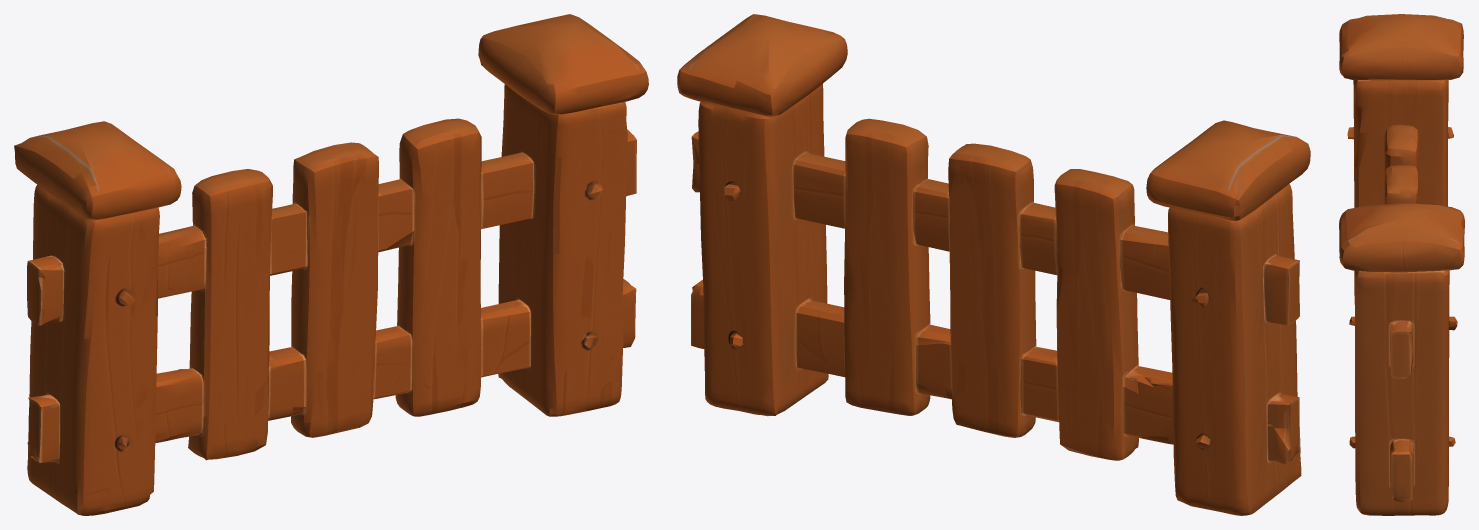
Rendered from fence_low_1.glb.
The picture shows the model from 3 angles, left to right: view 1: azimuth 30°, elevation 25°; view 2: azimuth 150°, elevation 25°; view 3: azimuth 270°, elevation 25°; orthographic projection. The views are drawn at different scales.
Visible parts, largest first — view 1: Mesh0; view 2: Mesh0; view 3: Mesh0.
Part boxes in pixels (left/top/right/bottom): Mesh0: left=14, top=14, right=648, bottom=515; Mesh0: left=677, top=14, right=1310, bottom=515; Mesh0: left=1339, top=14, right=1464, bottom=515.
Bounding box in the file's own units: 0.95 × 0.5681 × 0.2151.
Materials: 1 (1 with a texture image).
